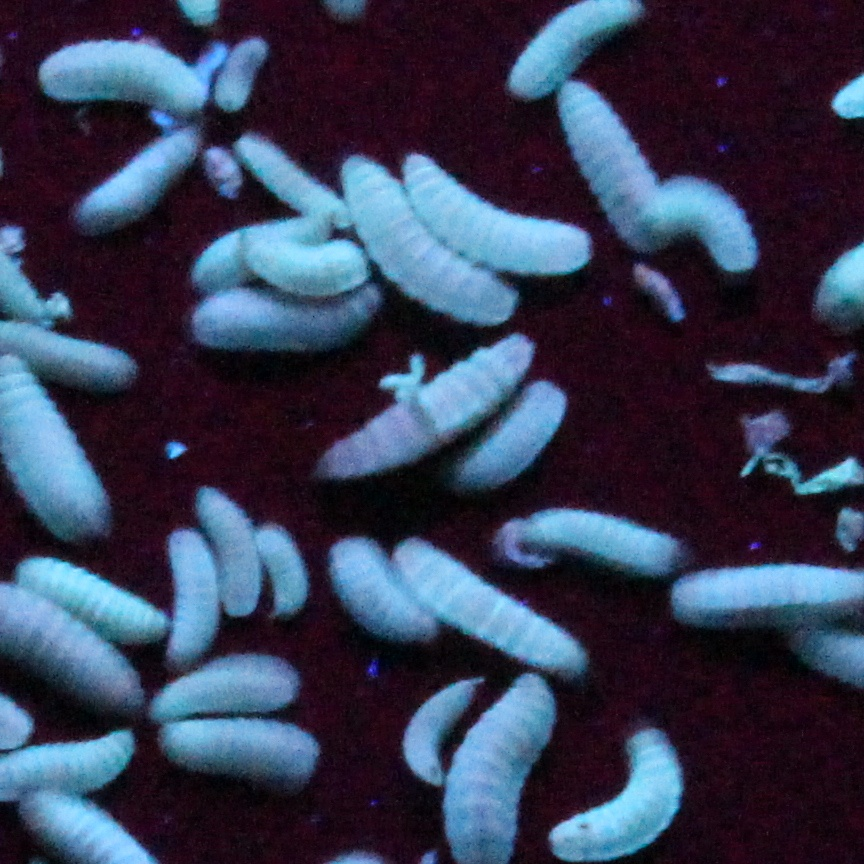larve: (312, 335, 538, 485), (400, 537, 593, 683), (349, 155, 520, 318), (404, 152, 589, 272), (552, 724, 700, 858), (558, 82, 656, 248), (17, 549, 160, 641), (455, 383, 567, 493), (328, 535, 435, 648), (83, 127, 198, 231), (643, 179, 765, 276), (41, 44, 207, 114), (514, 510, 673, 583), (197, 213, 332, 289), (190, 294, 379, 347), (238, 134, 342, 224), (196, 483, 258, 620), (159, 654, 296, 716), (245, 233, 366, 297), (165, 528, 218, 665), (405, 682, 479, 780), (158, 730, 320, 772), (258, 524, 305, 614), (218, 37, 265, 117)
